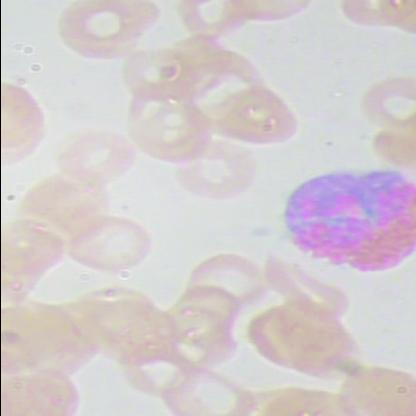RBC: (248, 299, 366, 381), (13, 167, 124, 249), (202, 84, 312, 156), (256, 247, 352, 326), (54, 0, 166, 60), (66, 208, 158, 278), (128, 99, 220, 169), (51, 124, 142, 194), (180, 248, 268, 318), (120, 348, 214, 406), (174, 138, 260, 200), (1, 360, 93, 416), (162, 361, 256, 415), (324, 360, 415, 415), (122, 47, 200, 103), (356, 67, 415, 138), (0, 74, 50, 154), (223, 0, 330, 35), (173, 0, 252, 43), (364, 117, 415, 172), (178, 285, 243, 328)
WBC: (273, 159, 415, 280)
